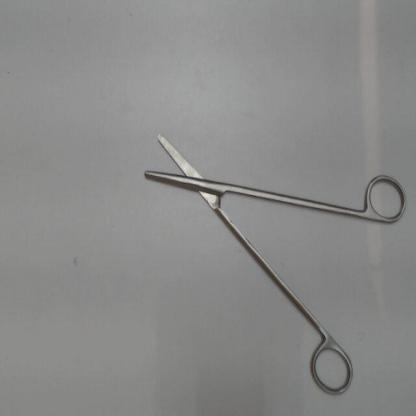9 Metzenbaum Scissors: (144, 128, 410, 403)
